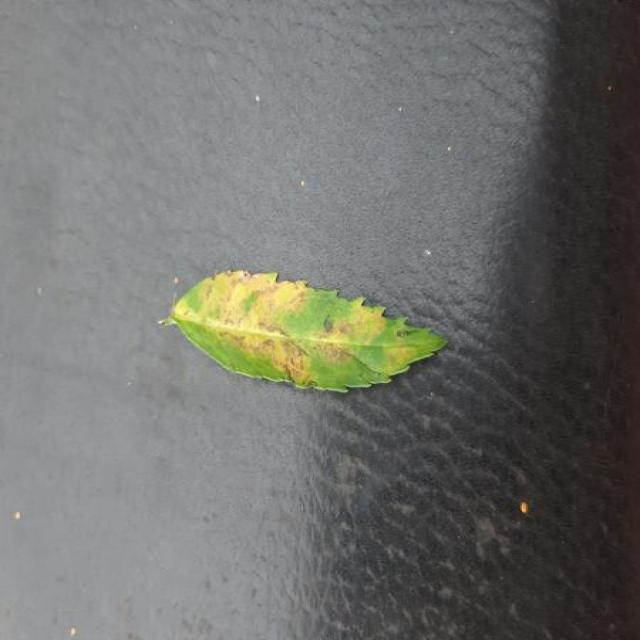leaf spot: (162, 272, 445, 391)
marigold: (160, 272, 447, 392)
